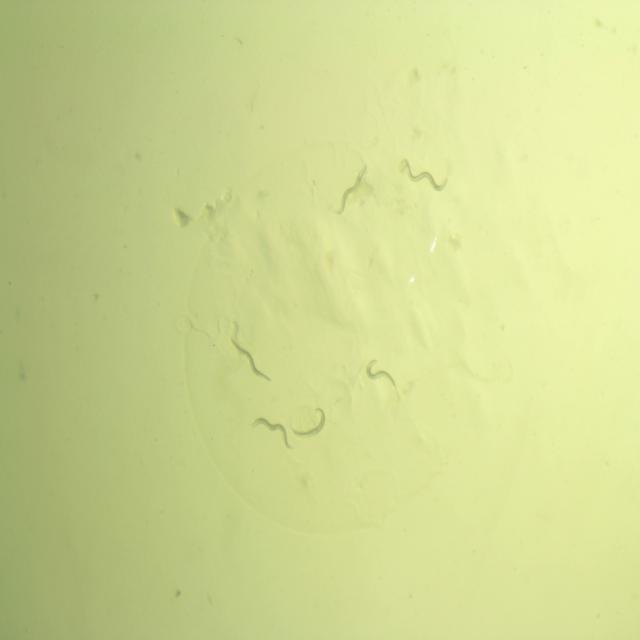worm: (329, 161, 372, 217), (227, 333, 274, 384), (400, 157, 450, 194), (248, 414, 294, 453), (288, 404, 326, 442), (362, 357, 399, 389)
